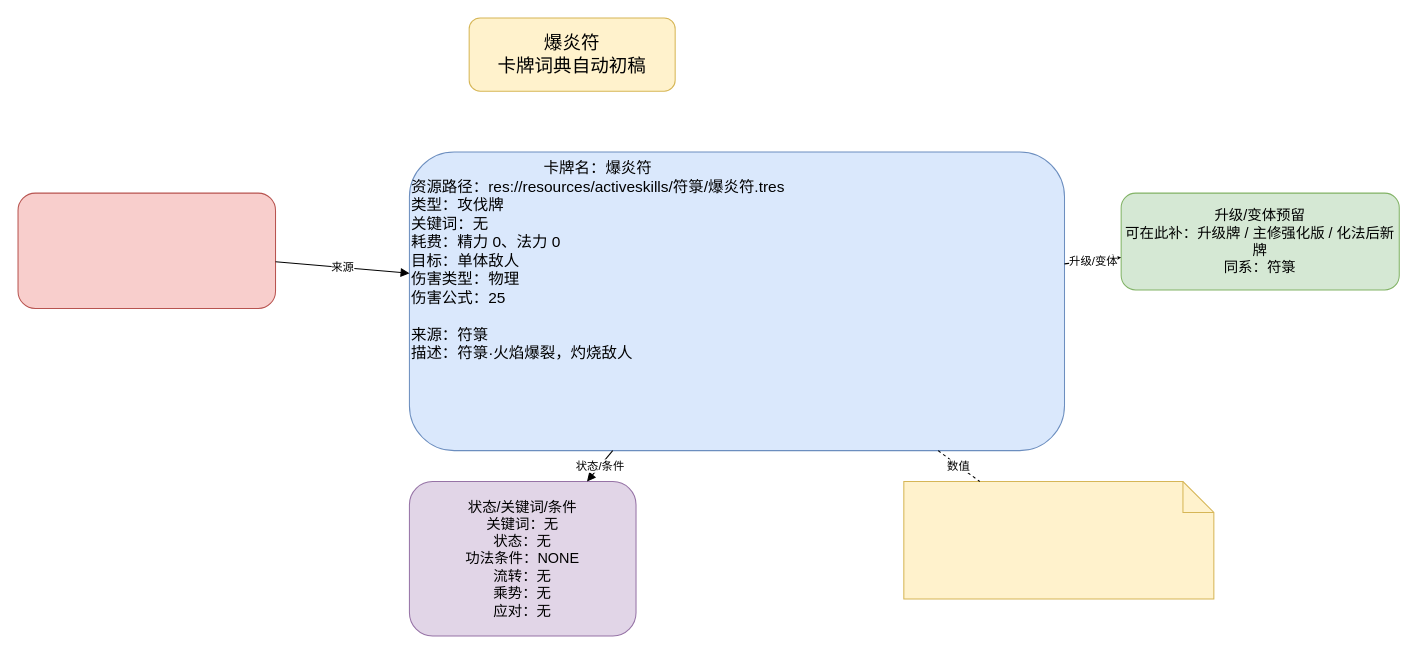
The diagram is 1417 pixels wide and 654 high, and some of its shapes have lost their labels. Each missing label, with the centre of its shape:
"数值摘要 基础伤害类型：物理 伤害公式：25 伤害类型：spiritual 倍率：intelligence x 0.5 范围：AOE 0" goes at pixel 1058 539.
"来源/前置 来源分类：符箓 来源秘籍：无 可在此补：前置牌 / 被替换牌 / 基础牌来源" goes at pixel 146 250.
